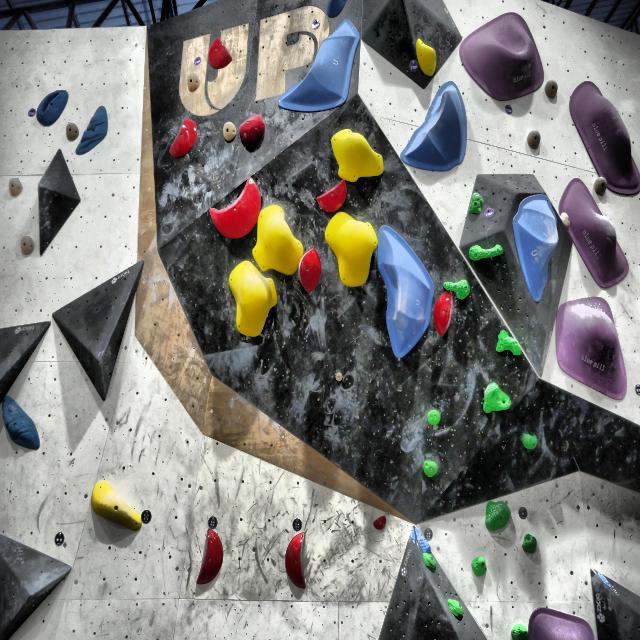Hold: (460, 10, 545, 105), (373, 225, 432, 361), (570, 77, 638, 191), (282, 24, 364, 118), (562, 178, 631, 288), (556, 303, 631, 401), (403, 80, 466, 175), (514, 186, 556, 311), (224, 261, 280, 346), (325, 211, 382, 288), (249, 204, 300, 282), (209, 174, 259, 247), (328, 128, 386, 190), (86, 477, 142, 532), (530, 605, 604, 640), (0, 395, 41, 455), (76, 102, 112, 159), (195, 523, 223, 587), (294, 244, 326, 299), (169, 109, 196, 163), (286, 527, 306, 590), (239, 108, 265, 154), (480, 382, 512, 416), (36, 91, 70, 123), (483, 499, 513, 534), (466, 235, 503, 263), (318, 181, 347, 214), (414, 32, 434, 78), (441, 275, 470, 305), (436, 288, 453, 336), (409, 520, 433, 554), (206, 35, 230, 67), (517, 430, 542, 456), (322, 0, 352, 20), (445, 592, 464, 622), (497, 332, 520, 356), (465, 193, 486, 217), (219, 120, 240, 144), (472, 556, 494, 576), (180, 72, 199, 92), (370, 514, 389, 534), (8, 177, 26, 197), (521, 533, 537, 554), (426, 409, 441, 431), (62, 125, 80, 143), (20, 232, 32, 258), (510, 624, 528, 640), (422, 552, 438, 570), (423, 458, 437, 476)
